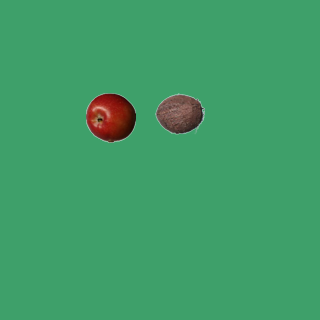Apple Braeburn: (85, 92, 135, 142)
Cocos: (154, 88, 204, 138)
